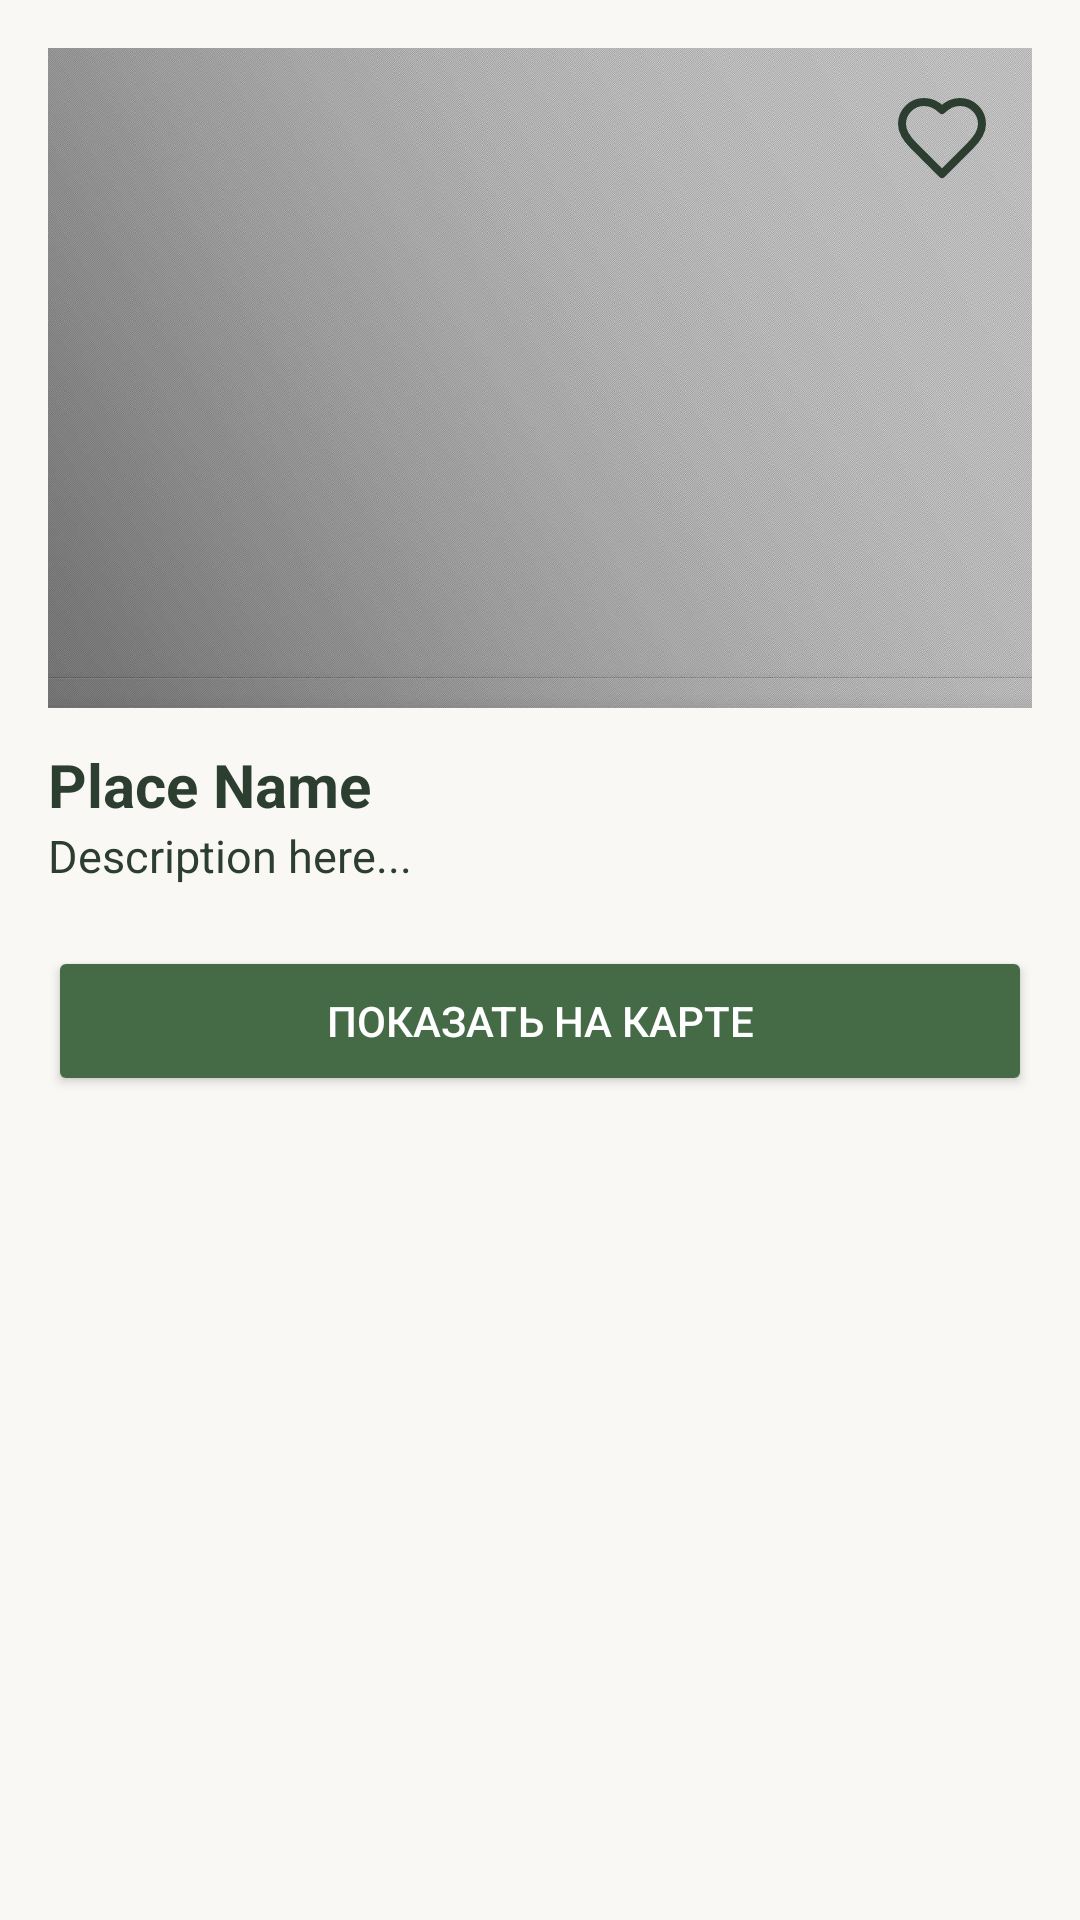

Icons on this 1080px×1920px Android screen, each with the point to tap as [x,y]:
heart: [942,138]
